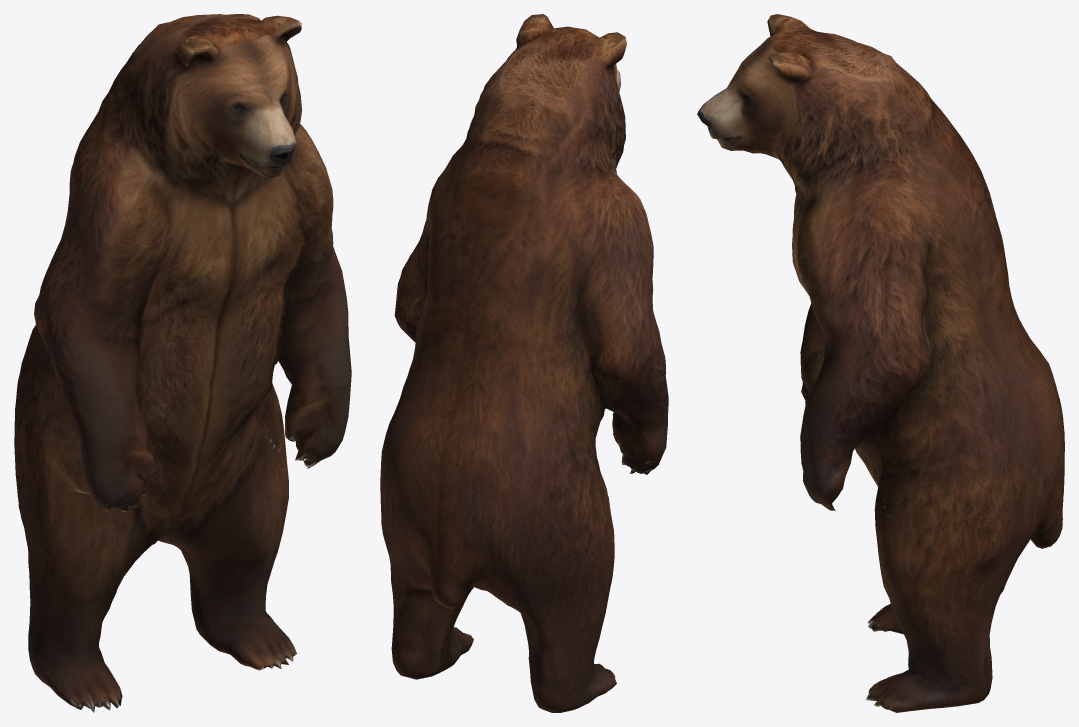
The model's file is bear_standing.glb.
3 renders of one model, left to right at view 1: azimuth 30°, elevation 25°; view 2: azimuth 150°, elevation 25°; view 3: azimuth 270°, elevation 25°, orthographic. The views are drawn at different scales.
Parts seen in each view (by area): view 1: Object_4; view 2: Object_4; view 3: Object_4.
Part boxes in pixels (bbox=[...]): Object_4: bbox=[14, 14, 351, 712]; Object_4: bbox=[380, 14, 668, 712]; Object_4: bbox=[697, 14, 1064, 712].
Bounding box in the file's own units: 0.8594 × 1.99 × 1.06.
1 material, 1 textured.
